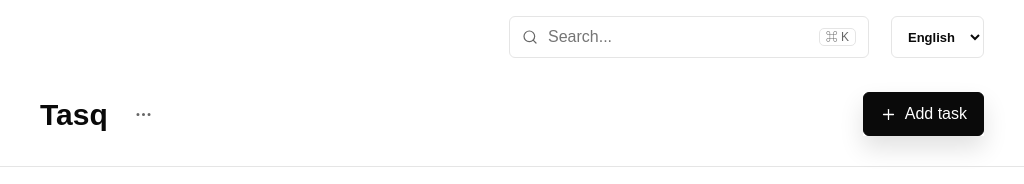
Test: Header › shows an empty result message
This screenshot has width=1024, height=184.
Type "missing" into the search field at (678, 37), box [546,27,811,47]
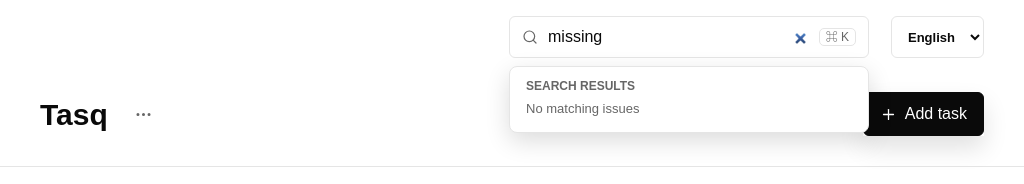
Expected: the text "No matching issues" is shown, [526,101,640,116]
